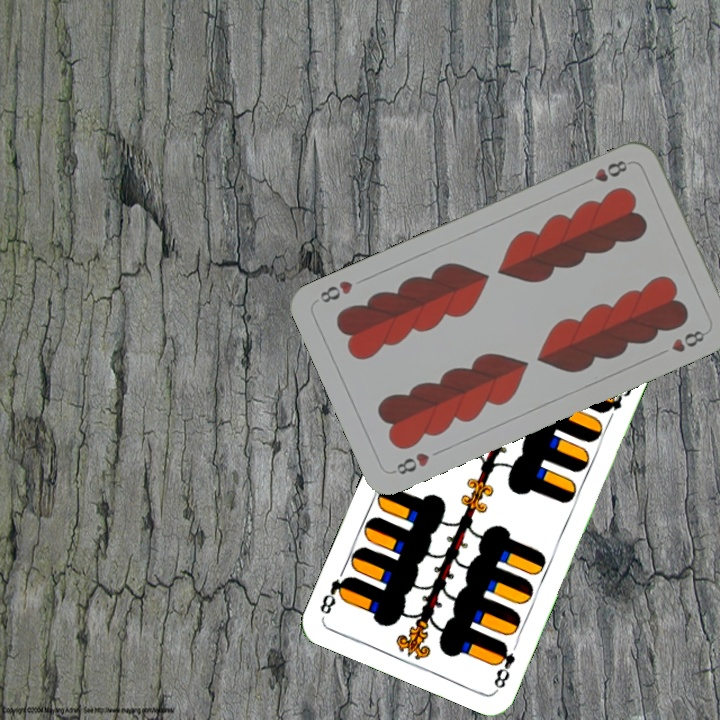E8: (490, 638, 518, 693)
H8: (388, 448, 433, 478), (590, 156, 630, 185)
